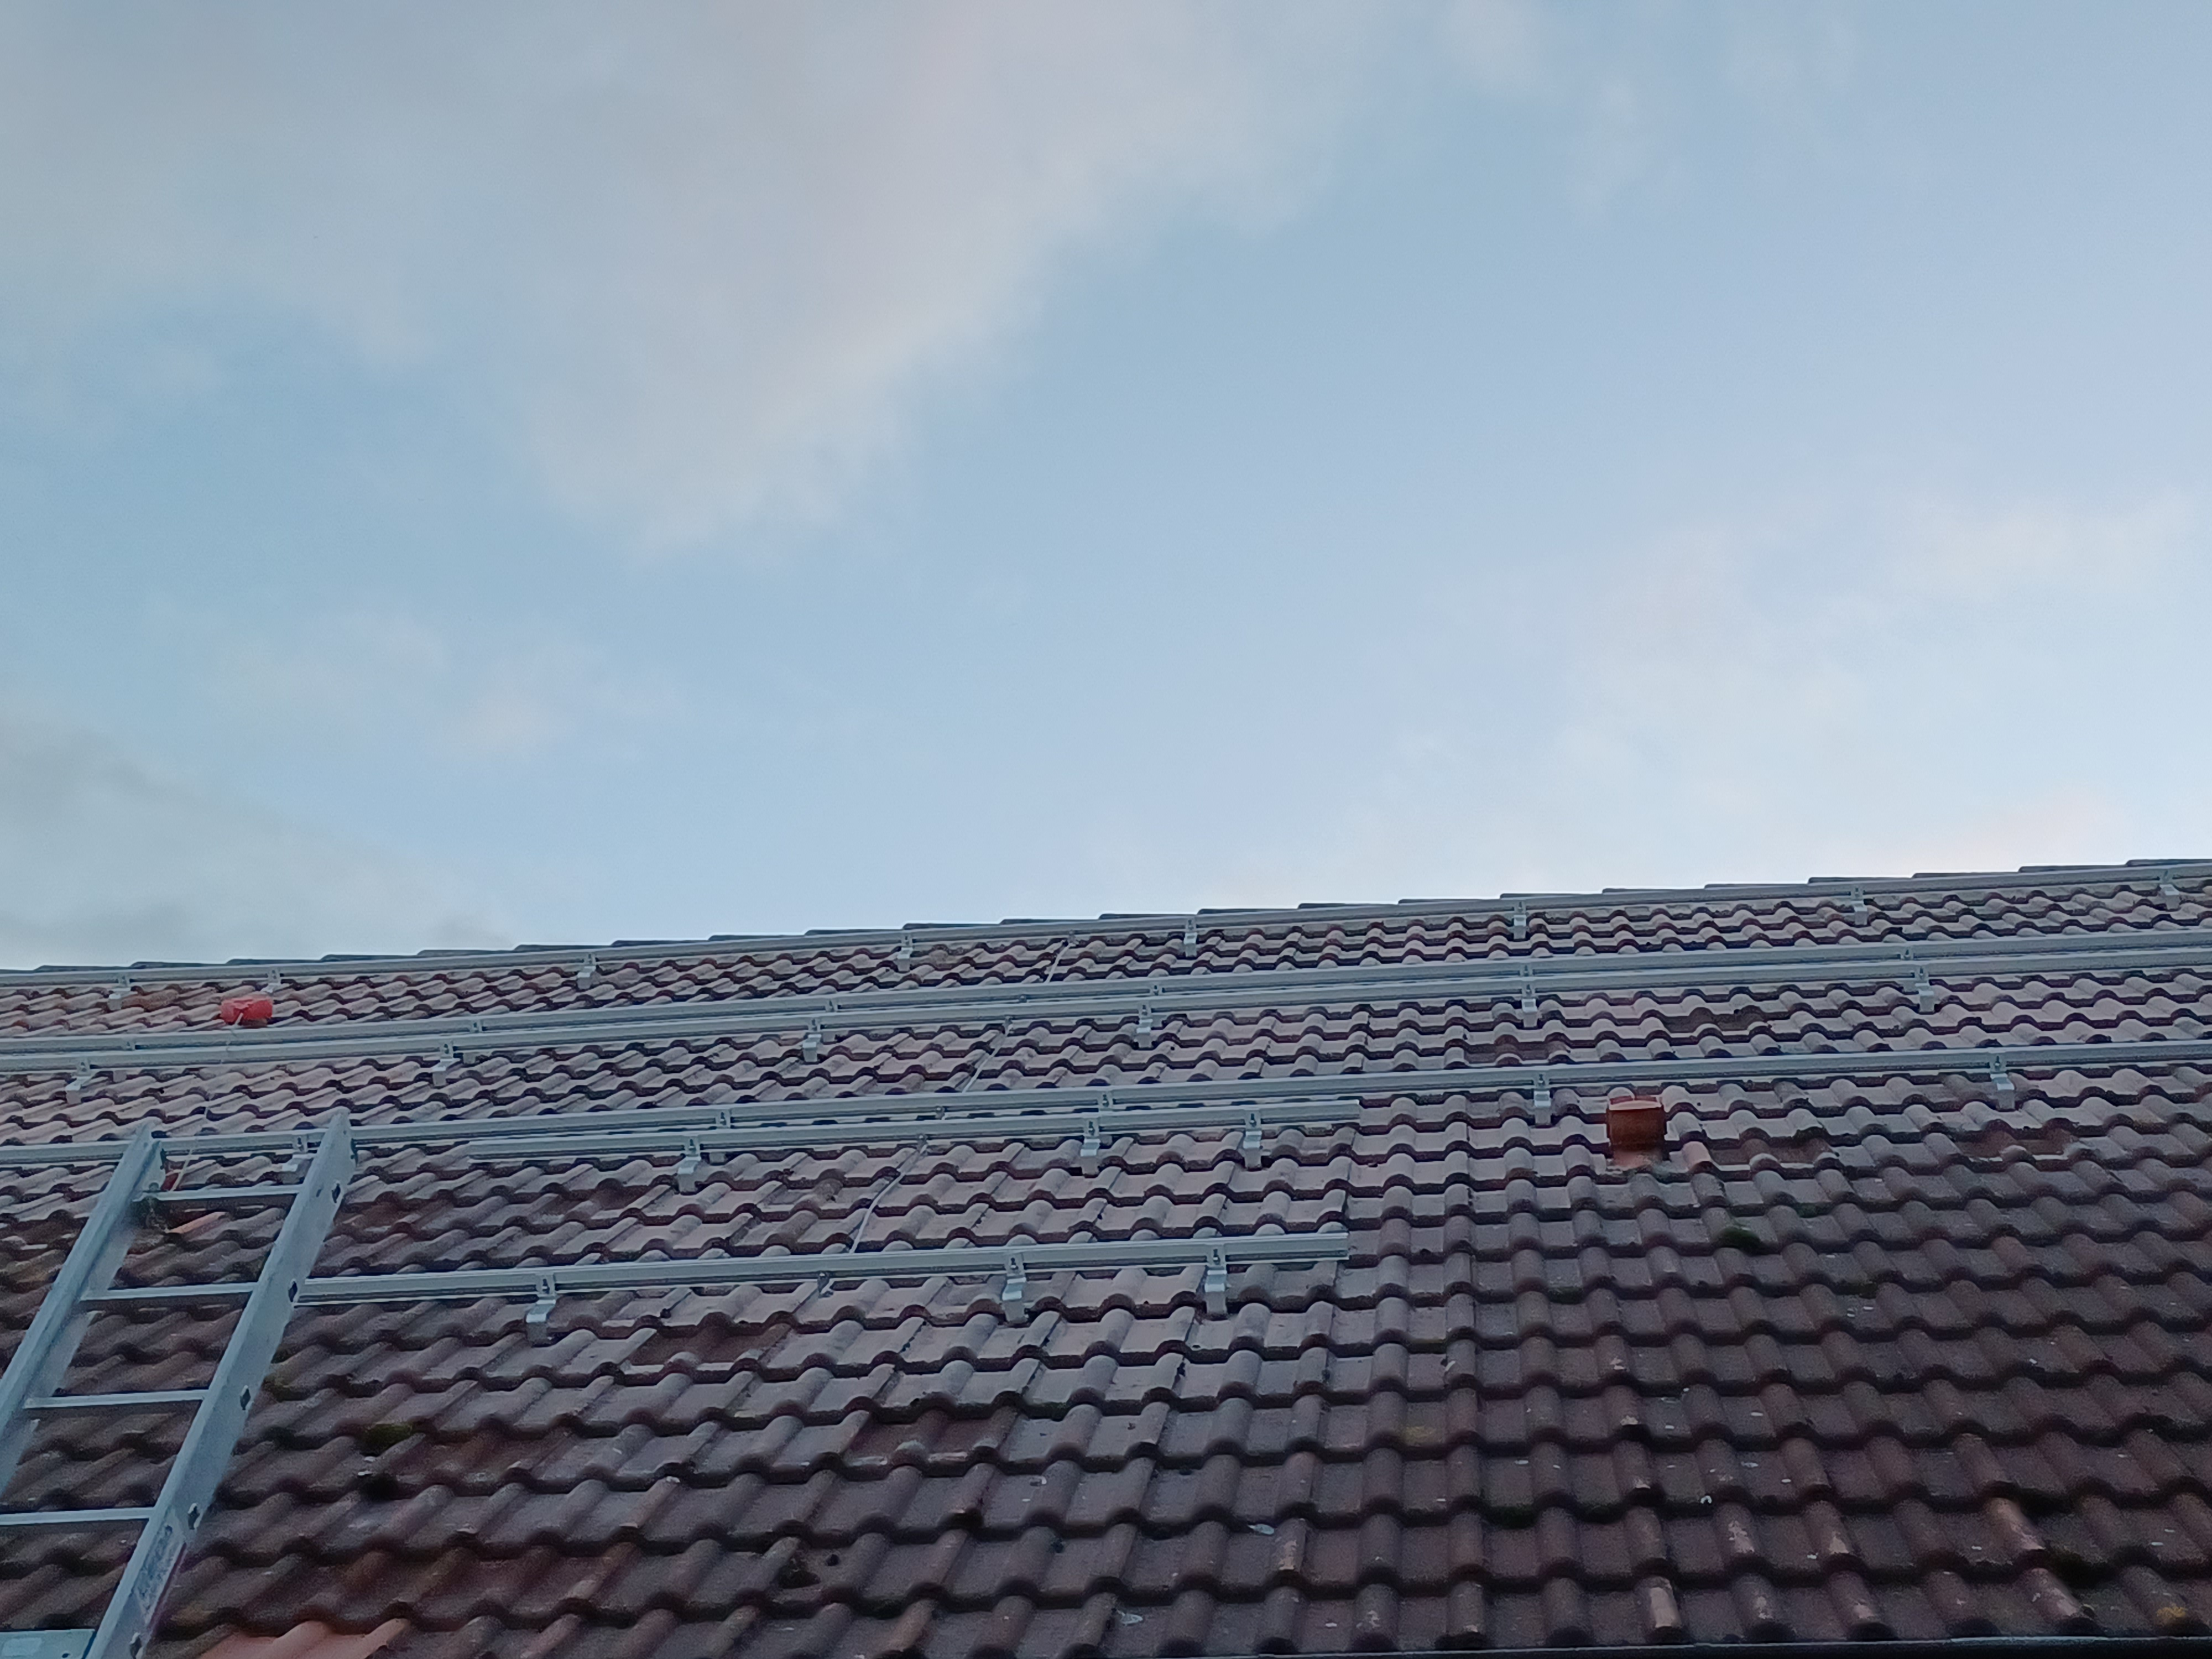hook: (526, 1274, 557, 1344), (1001, 1251, 1031, 1323), (1205, 1243, 1230, 1319), (1989, 1051, 2015, 1112), (678, 1134, 704, 1192), (64, 1056, 94, 1105), (279, 1134, 308, 1183), (1082, 1115, 1101, 1176), (1244, 1108, 1263, 1169), (709, 1108, 730, 1162), (432, 1040, 455, 1087), (1914, 962, 1935, 1012), (1534, 1068, 1552, 1127), (113, 1039, 134, 1082), (1846, 884, 1867, 927), (1097, 1089, 1113, 1147), (108, 974, 131, 1012), (803, 1018, 822, 1063), (463, 1019, 482, 1065), (1521, 979, 1538, 1028), (1136, 1000, 1153, 1049), (2160, 868, 2179, 910), (577, 951, 596, 990), (897, 932, 914, 972), (822, 999, 838, 1042), (1900, 945, 1914, 993), (261, 965, 282, 997), (1183, 917, 1197, 958), (1514, 899, 1526, 939), (1519, 962, 1533, 976), (1150, 981, 1162, 997)
